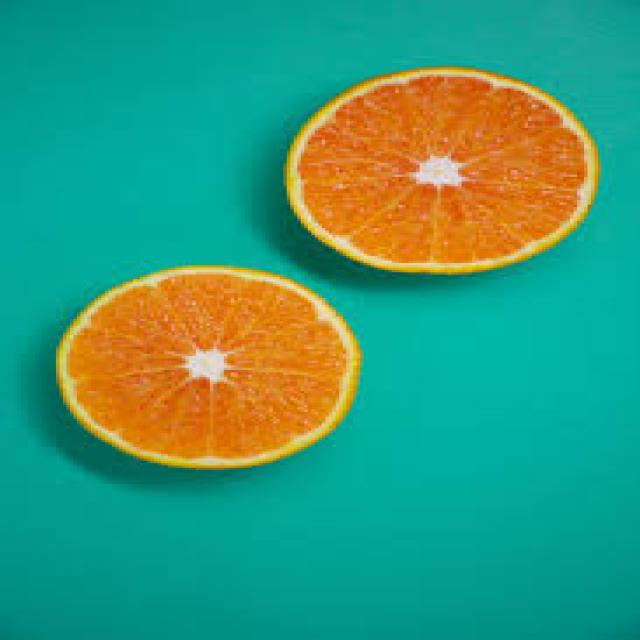orange: (54, 258, 367, 496), (283, 70, 604, 276)
